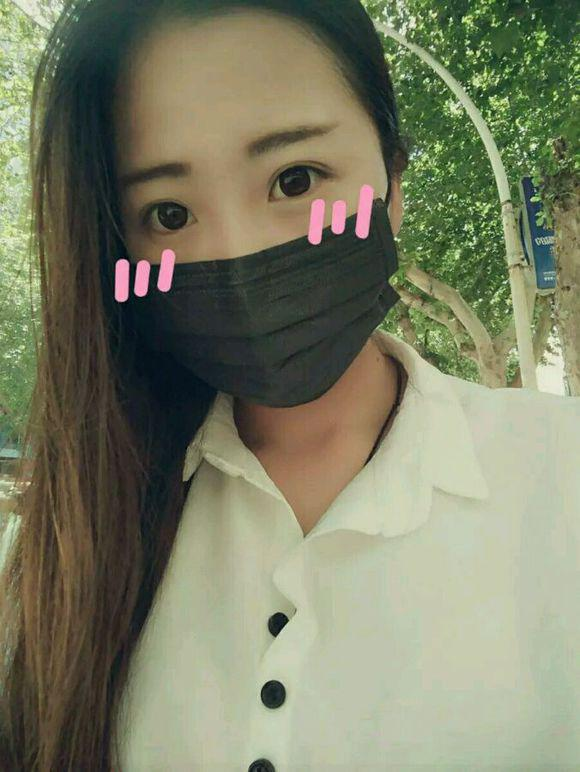OK: (103, 123, 389, 409)
